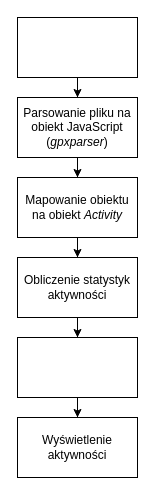
Image size: 155x495. Some labels were removed from this diagram. The centre of each missing label's shape, as x and y in pixels:
Wybór pliku GPX z dysku urządzenia: pixel 77 47
Zapis do bazy danych: pixel 77 367
